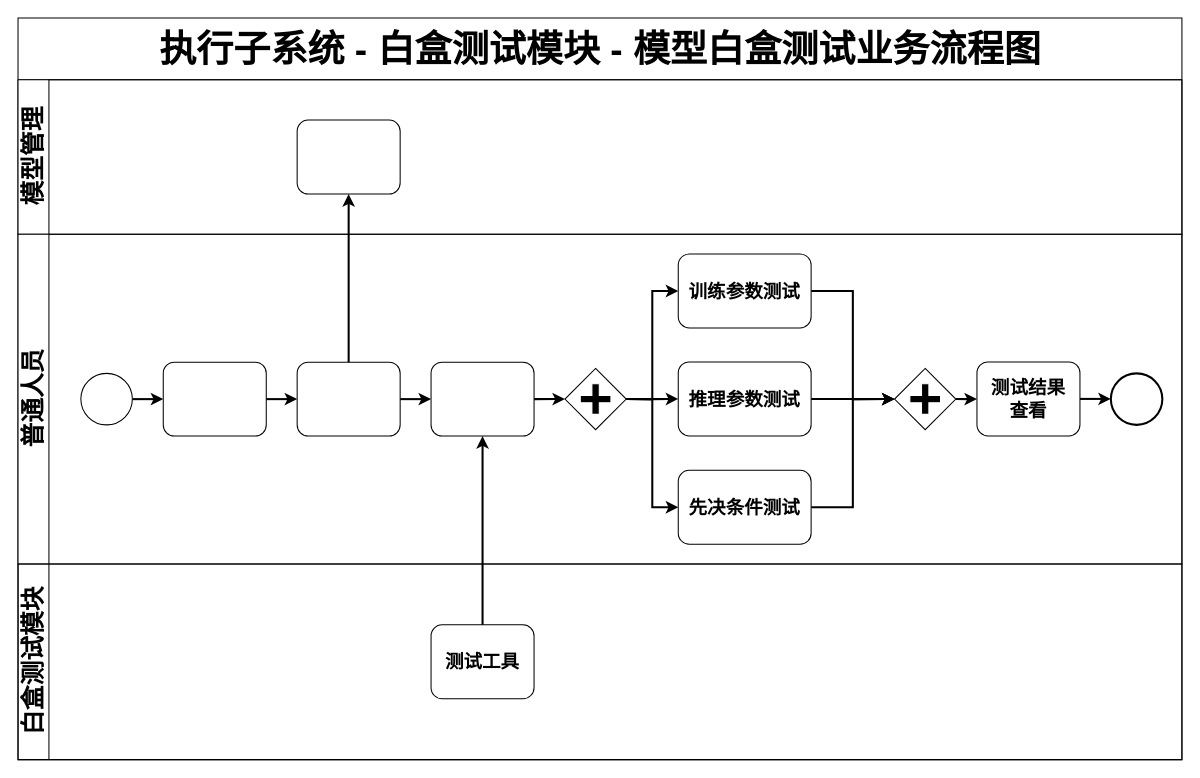
Some shapes in this 1200 by 778 pixel diagram are drawn without their labels. Here are the shapes that lost their labels. From the top down, the centre of each, then its label:
pixel 348 156: 待测试模型
pixel 214 398: 用户登录
pixel 348 398: 模型选择
pixel 482 398: 测试工具 选择
